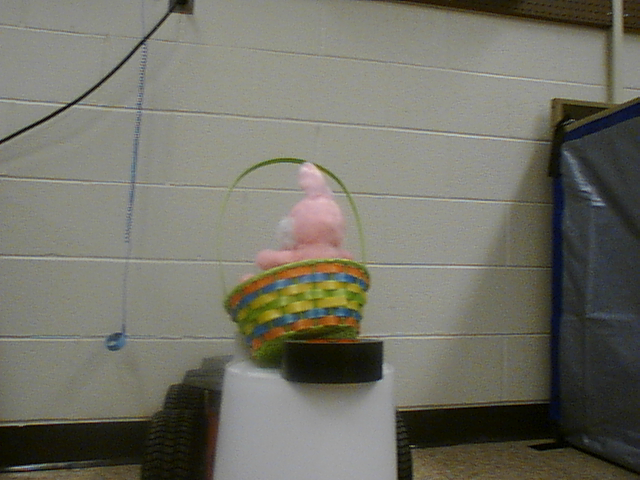bunny: (213, 153, 378, 361)
